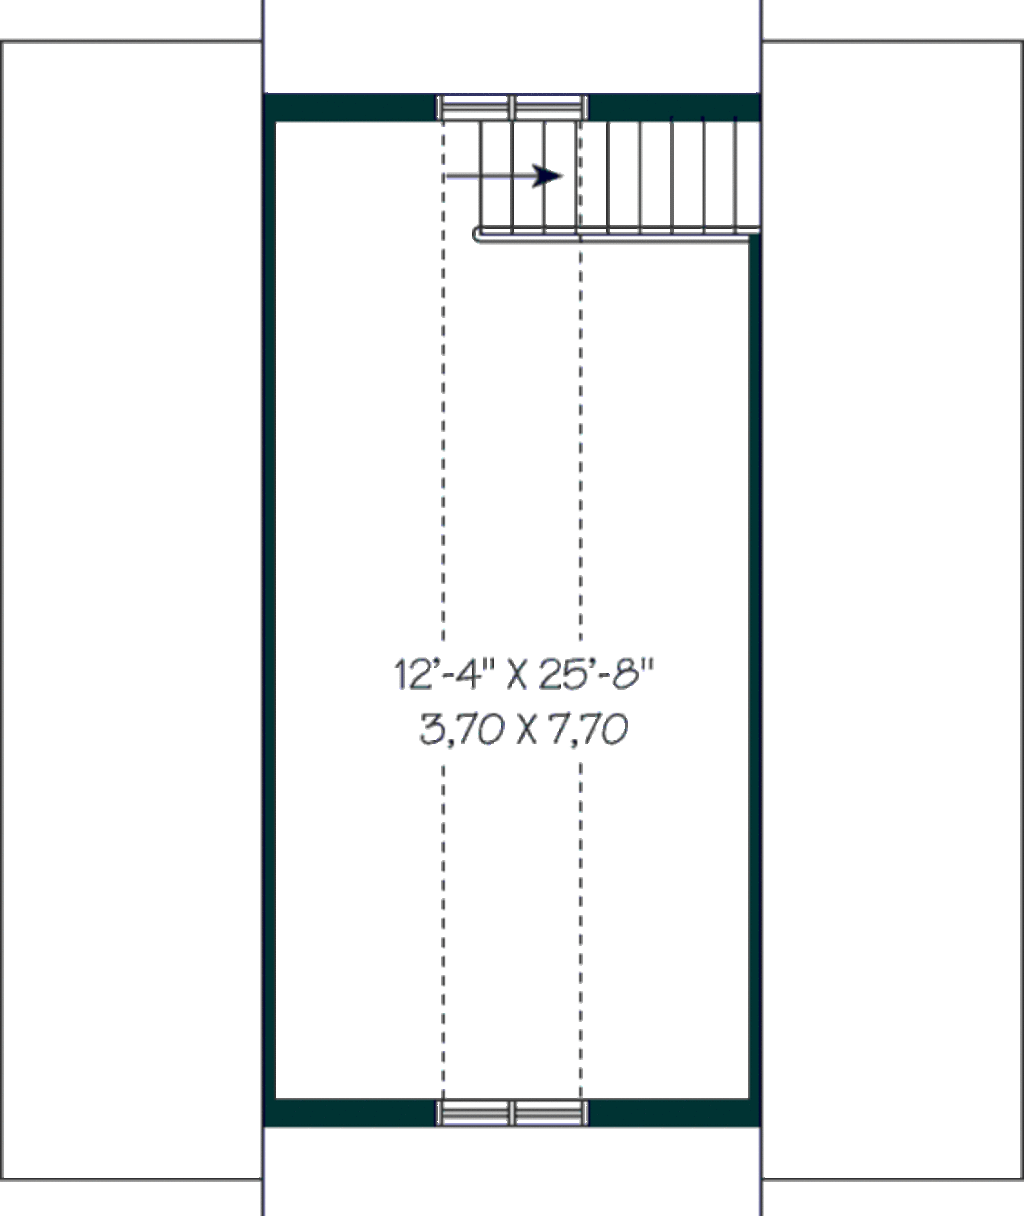stairs: (475, 126, 779, 258)
window: (431, 1093, 592, 1139), (435, 82, 592, 125)
